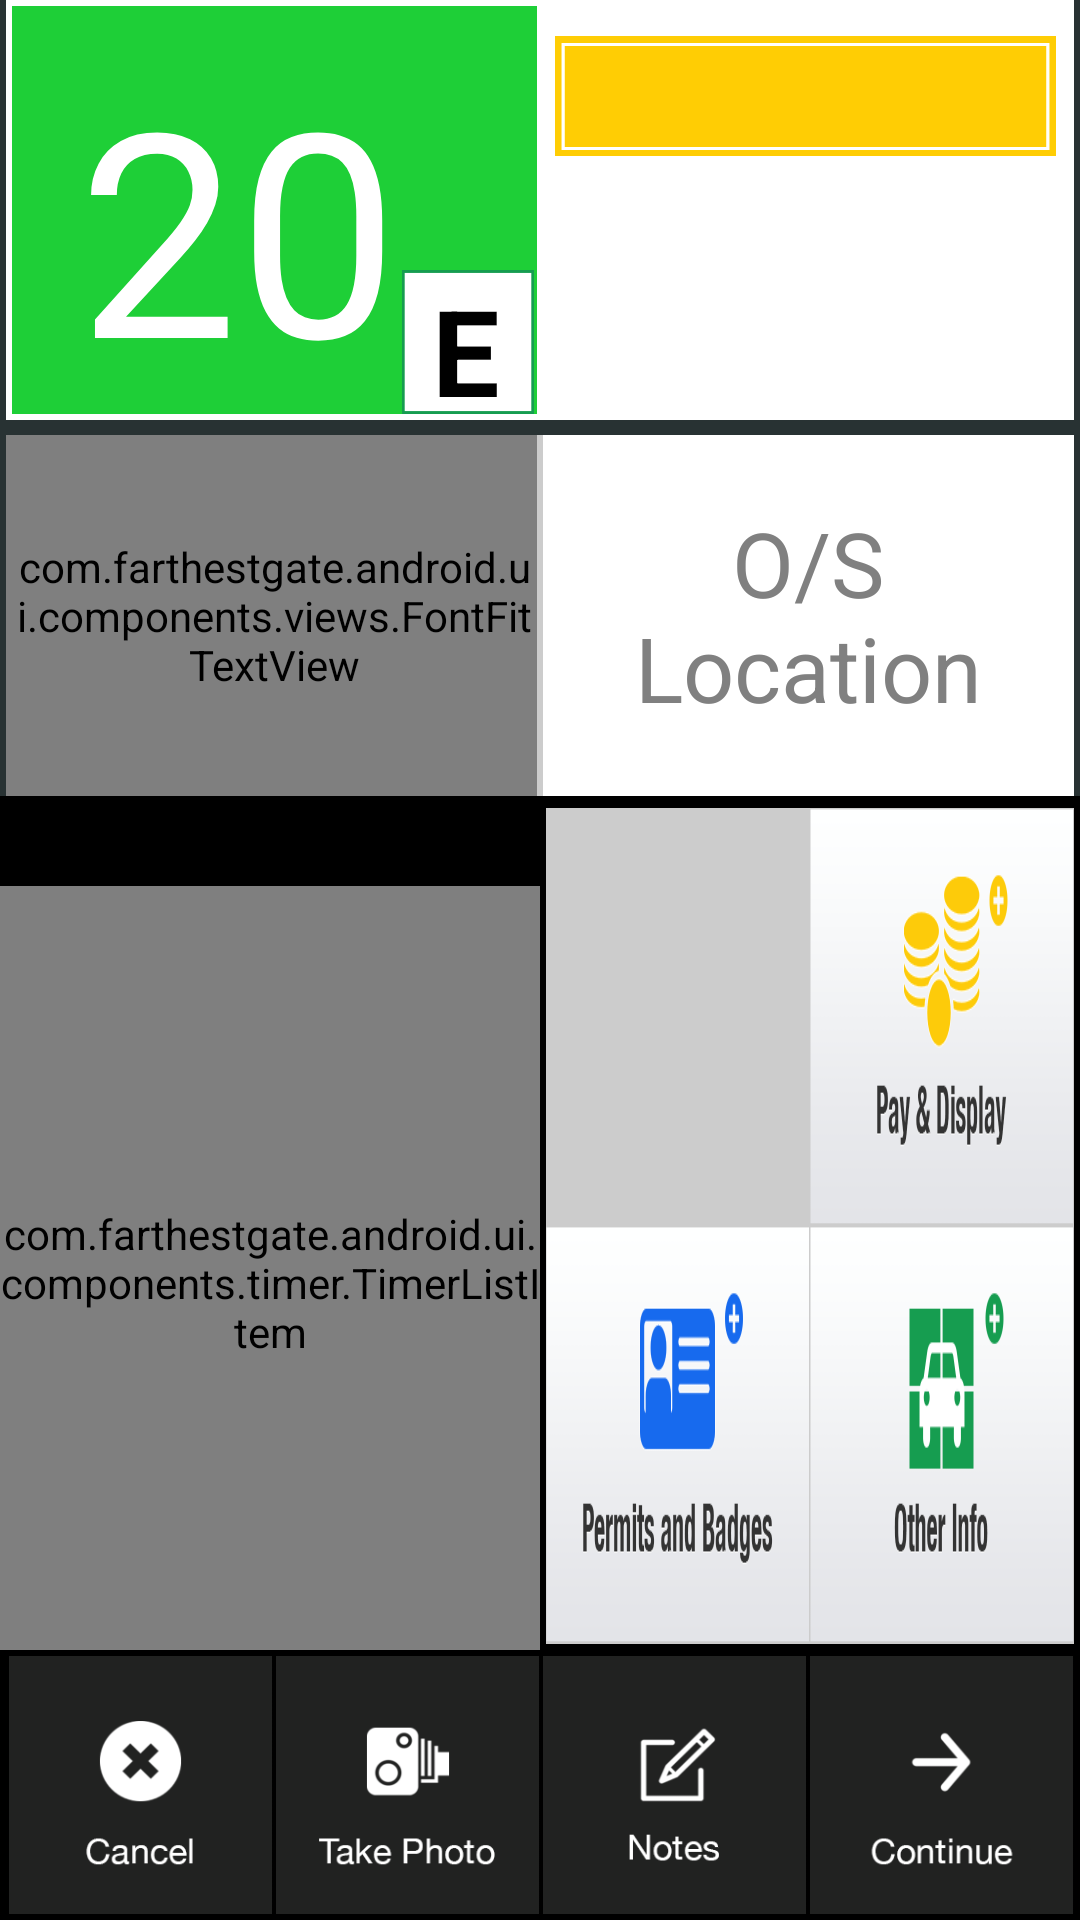

Locate icon controls on the screen. Image size 1080px×1920px, boxes as {"left": x1, "top": y1, "right": x2, "bottom": y2}.
done: {"left": 810, "top": 1656, "right": 1073, "bottom": 1914}
